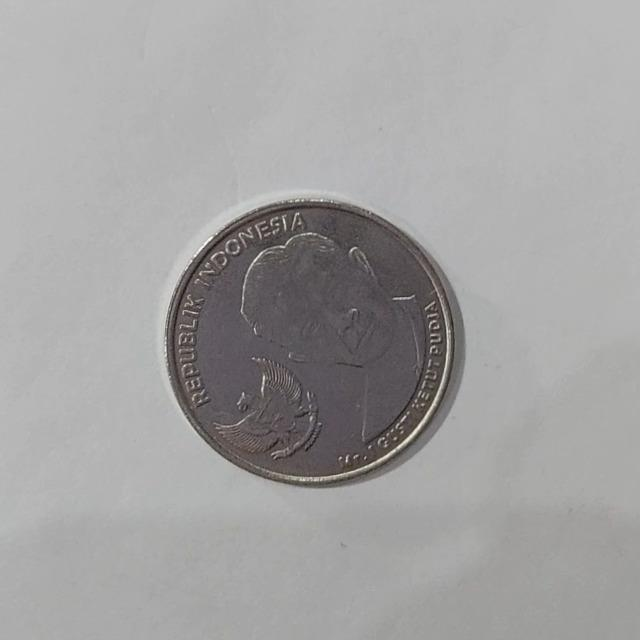Rp100: (163, 191, 460, 487)
